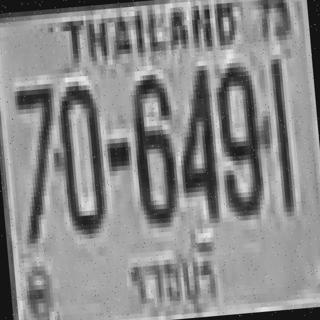N00: (52, 80, 106, 231)
N01: (267, 54, 294, 212)
N04: (170, 65, 220, 221)
N06: (126, 68, 178, 224)
N07: (11, 79, 63, 240)
N09: (211, 59, 266, 215)
P52: (120, 227, 226, 319)
